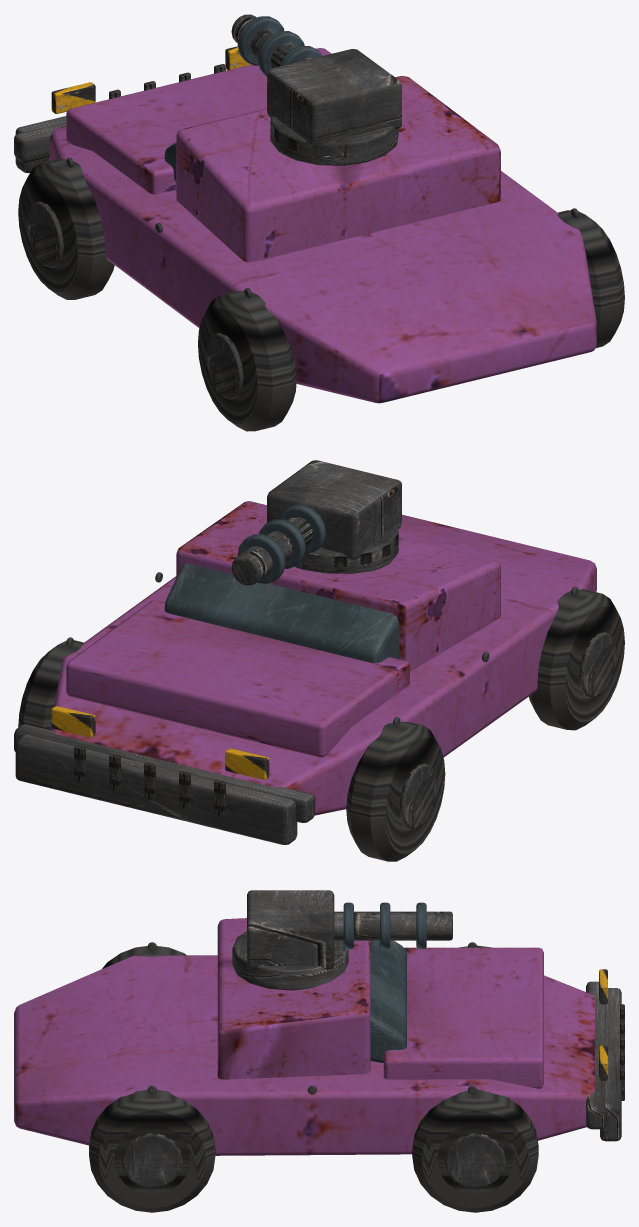
Rendered from retro.gltf.
The picture shows the model from 3 angles, top to bottom: view 1: azimuth 30°, elevation 25°; view 2: azimuth 150°, elevation 25°; view 3: azimuth 270°, elevation 25°; orthographic projection. The views are drawn at different scales.
Visible parts, largest first — view 1: Armored chassis.002, Lowrider cabin, Long hood, Pulse receiver, CC0Wheel.008, CC0Wheel.010, CC0Wheel.009, Turret, Hub.008, Hub.010, Chrome front bumper, Ion barrel (+4 smaller); view 2: Armored chassis.002, Long hood, Lowrider cabin, Retro windshield, Ram plate.002, CC0Wheel.010, Pulse receiver, CC0Wheel.008, Chrome front bumper, CC0Wheel.011, Turret, Ion barrel (+7 smaller); view 3: Armored chassis.002, Long hood, Lowrider cabin, CC0Wheel.009, CC0Wheel.011, Pulse receiver, Retro windshield, Turret, Ion barrel, Hub.011, Hub.009, Ram plate.002 (+5 smaller).
Part boxes in pixels (<box>): Armored chassis.002: <box>49,126,596,403</box>; Lowrider cabin: <box>176,76,500,262</box>; Long hood: <box>66,48,331,194</box>; Pulse receiver: <box>267,49,401,148</box>; CC0Wheel.008: <box>198,291,296,431</box>; CC0Wheel.010: <box>18,158,114,299</box>; CC0Wheel.009: <box>557,210,624,348</box>; Turret: <box>270,116,398,165</box>; Hub.008: <box>206,333,243,399</box>; Hub.010: <box>26,201,63,267</box>; Chrome front bumper: <box>14,122,66,162</box>; Ion barrel: <box>231,14,311,67</box>; Armored chassis.002: <box>50,514,596,815</box>; Long hood: <box>66,600,409,757</box>; Lowrider cabin: <box>176,501,500,671</box>; Retro windshield: <box>164,563,398,662</box>; Ram plate.002: <box>15,735,297,844</box>; CC0Wheel.010: <box>346,721,445,861</box>; Pulse receiver: <box>267,460,401,559</box>; CC0Wheel.008: <box>529,589,624,730</box>; Chrome front bumper: <box>14,724,315,822</box>; CC0Wheel.011: <box>18,640,83,730</box>; Turret: <box>294,527,398,573</box>; Ion barrel: <box>231,516,322,585</box>; Armored chassis.002: <box>14,955,594,1155</box>; Long hood: <box>383,947,543,1088</box>; Lowrider cabin: <box>217,918,370,1079</box>; CC0Wheel.009: <box>89,1090,215,1212</box>; CC0Wheel.011: <box>412,1089,538,1212</box>; Pulse receiver: <box>247,890,334,969</box>; Retro windshield: <box>370,940,406,1062</box>; Turret: <box>232,931,348,990</box>; Ion barrel: <box>334,911,452,940</box>; Hub.011: <box>445,1133,505,1188</box>; Hub.009: <box>121,1133,182,1188</box>; Ram plate.002: <box>600,988,621,1141</box>.
Size of the model in its own units: 2.7 by 1.76 by 4.2.
5 materials, 5 textured.
